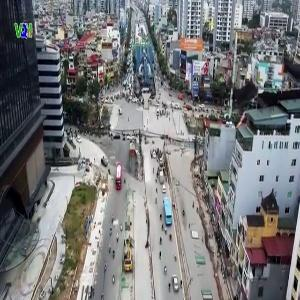drone: (204, 66, 278, 140)
